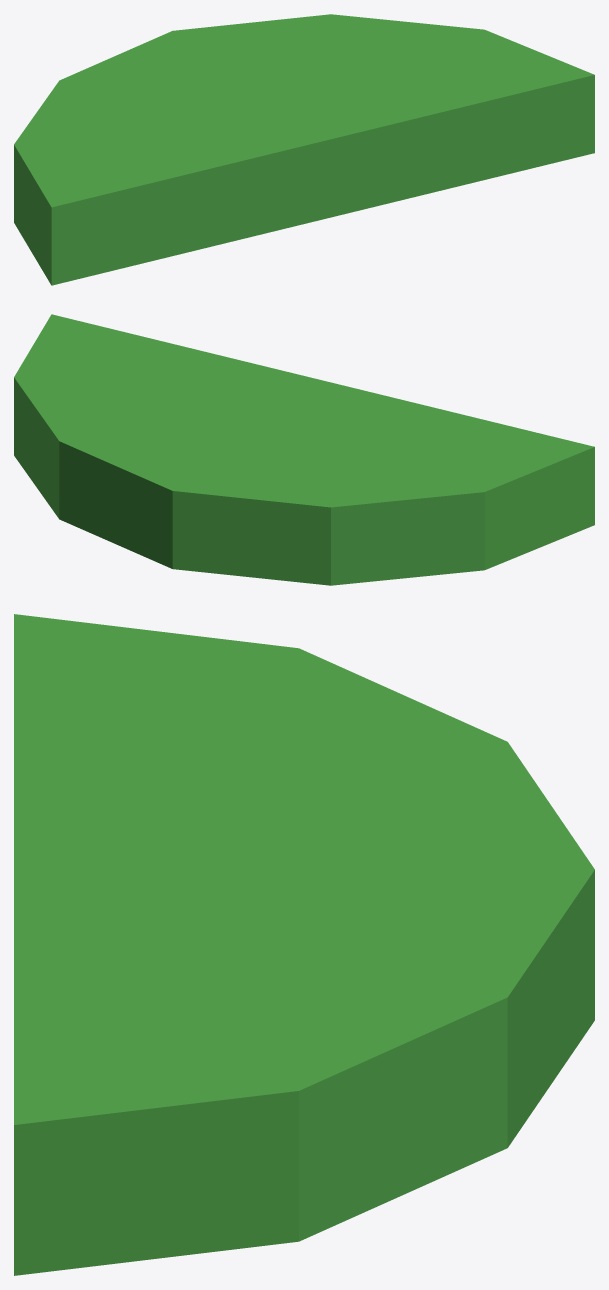
The model's file is parte1_hacha.fbx.
3 renders of one model, top to bottom at view 1: azimuth 30°, elevation 25°; view 2: azimuth 150°, elevation 25°; view 3: azimuth 270°, elevation 25°, orthographic. The views are drawn at different scales.
Visible parts, largest first — view 1: Zona_1; view 2: Zona_1; view 3: Zona_1.
Part boxes in pixels (left/top/right/bottom): Zona_1: left=14, top=14, right=594, bottom=285; Zona_1: left=14, top=314, right=594, bottom=585; Zona_1: left=14, top=614, right=594, bottom=1275.
Bounding box in the file's own units: 38.72 × 5.33 × 18.6.
